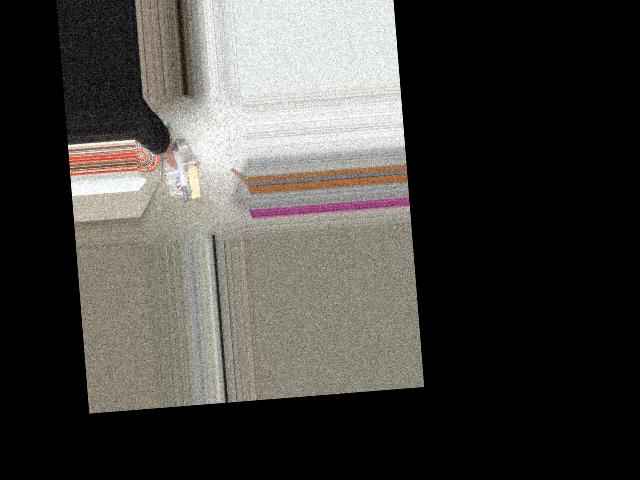cheese: (139, 148, 218, 206)
